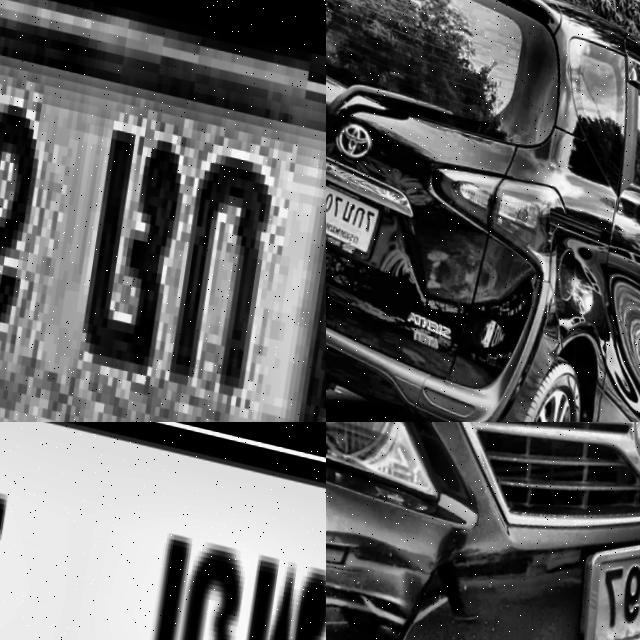license-plate: (0, 0, 326, 422), (0, 422, 326, 640), (568, 482, 640, 640), (326, 166, 390, 263)
